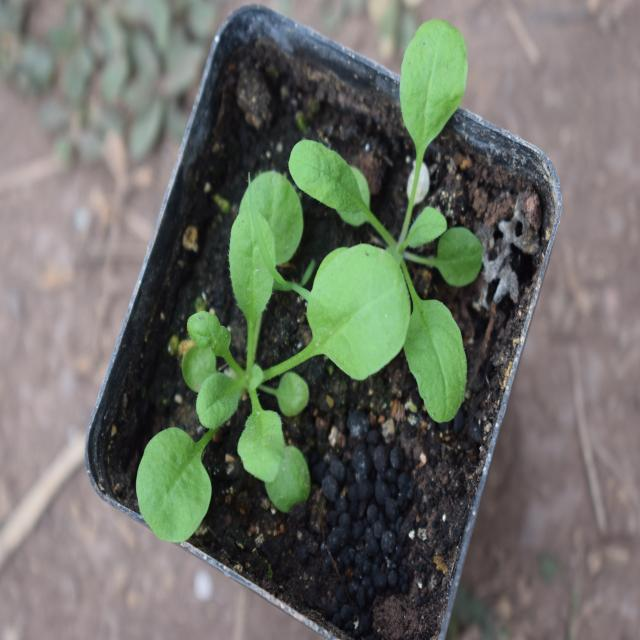Shepherd_Purse: (148, 192, 416, 546), (330, 7, 466, 416)
